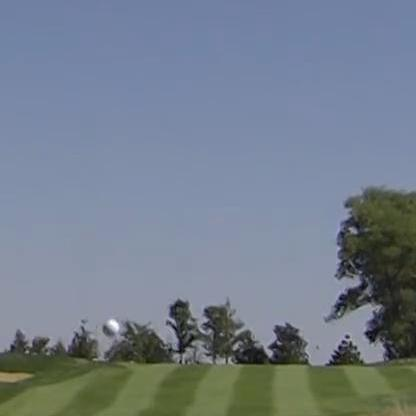golfball: (99, 316, 117, 337)
